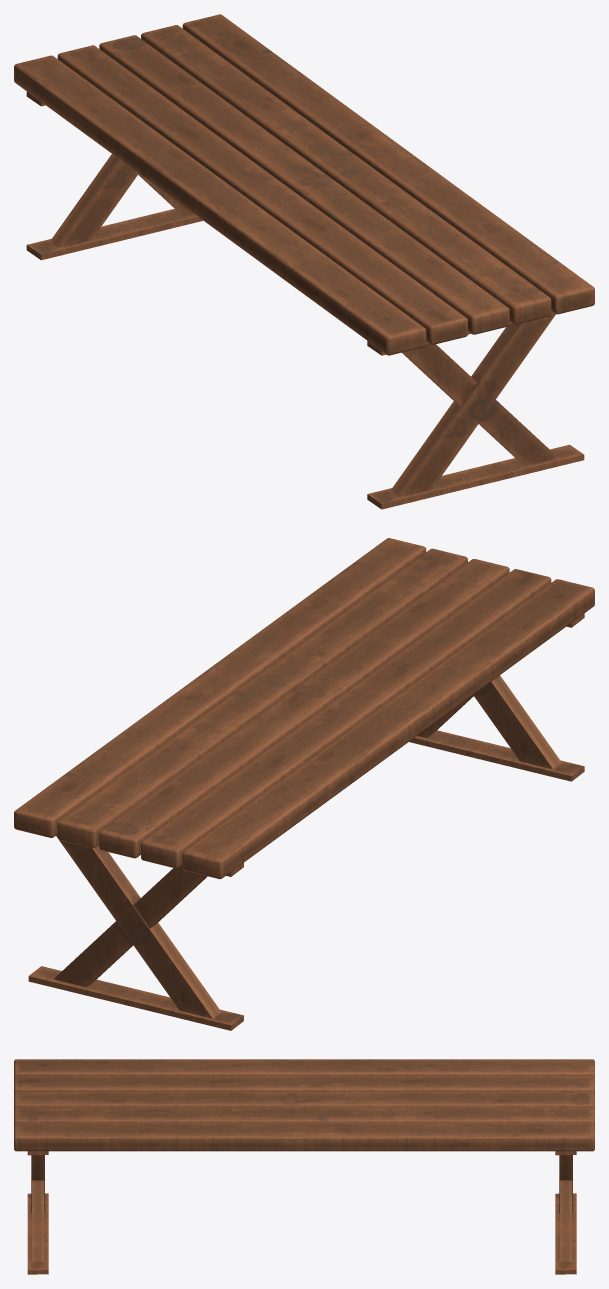
Rendered from wood_table_bench.glb.
The picture shows the model from 3 angles, top to bottom: view 1: azimuth 30°, elevation 25°; view 2: azimuth 150°, elevation 25°; view 3: azimuth 270°, elevation 25°; orthographic projection. The views are drawn at different scales.
Visible parts, largest first — view 1: SM_wood_table_top, SM_legs, SM_legs.006, SM_legs_LP, SM_legs.008; view 2: SM_wood_table_top, SM_legs.006, SM_legs, SM_legs.008, SM_legs_LP; view 3: SM_wood_table_top, SM_legs.006, SM_legs, SM_legs.008, SM_legs_LP.
Part boxes in pixels (<box>): SM_wood_table_top: <box>14,14,594,355</box>; SM_legs: <box>390,313,558,496</box>; SM_legs.006: <box>50,154,194,247</box>; SM_legs_LP: <box>367,444,584,509</box>; SM_legs.008: <box>26,208,203,260</box>; SM_wood_table_top: <box>14,538,594,879</box>; SM_legs.006: <box>53,834,221,1018</box>; SM_legs: <box>417,675,561,769</box>; SM_legs.008: <box>28,966,243,1030</box>; SM_legs_LP: <box>409,730,584,781</box>; SM_wood_table_top: <box>14,1059,594,1151</box>; SM_legs.006: <box>559,1155,572,1261</box>; SM_legs: <box>31,1155,44,1261</box>; SM_legs.008: <box>555,1193,576,1274</box>; SM_legs_LP: <box>27,1193,48,1274</box>.
Size of the model in its own units: 158 by 129 by 491.
1 material, 1 textured.
